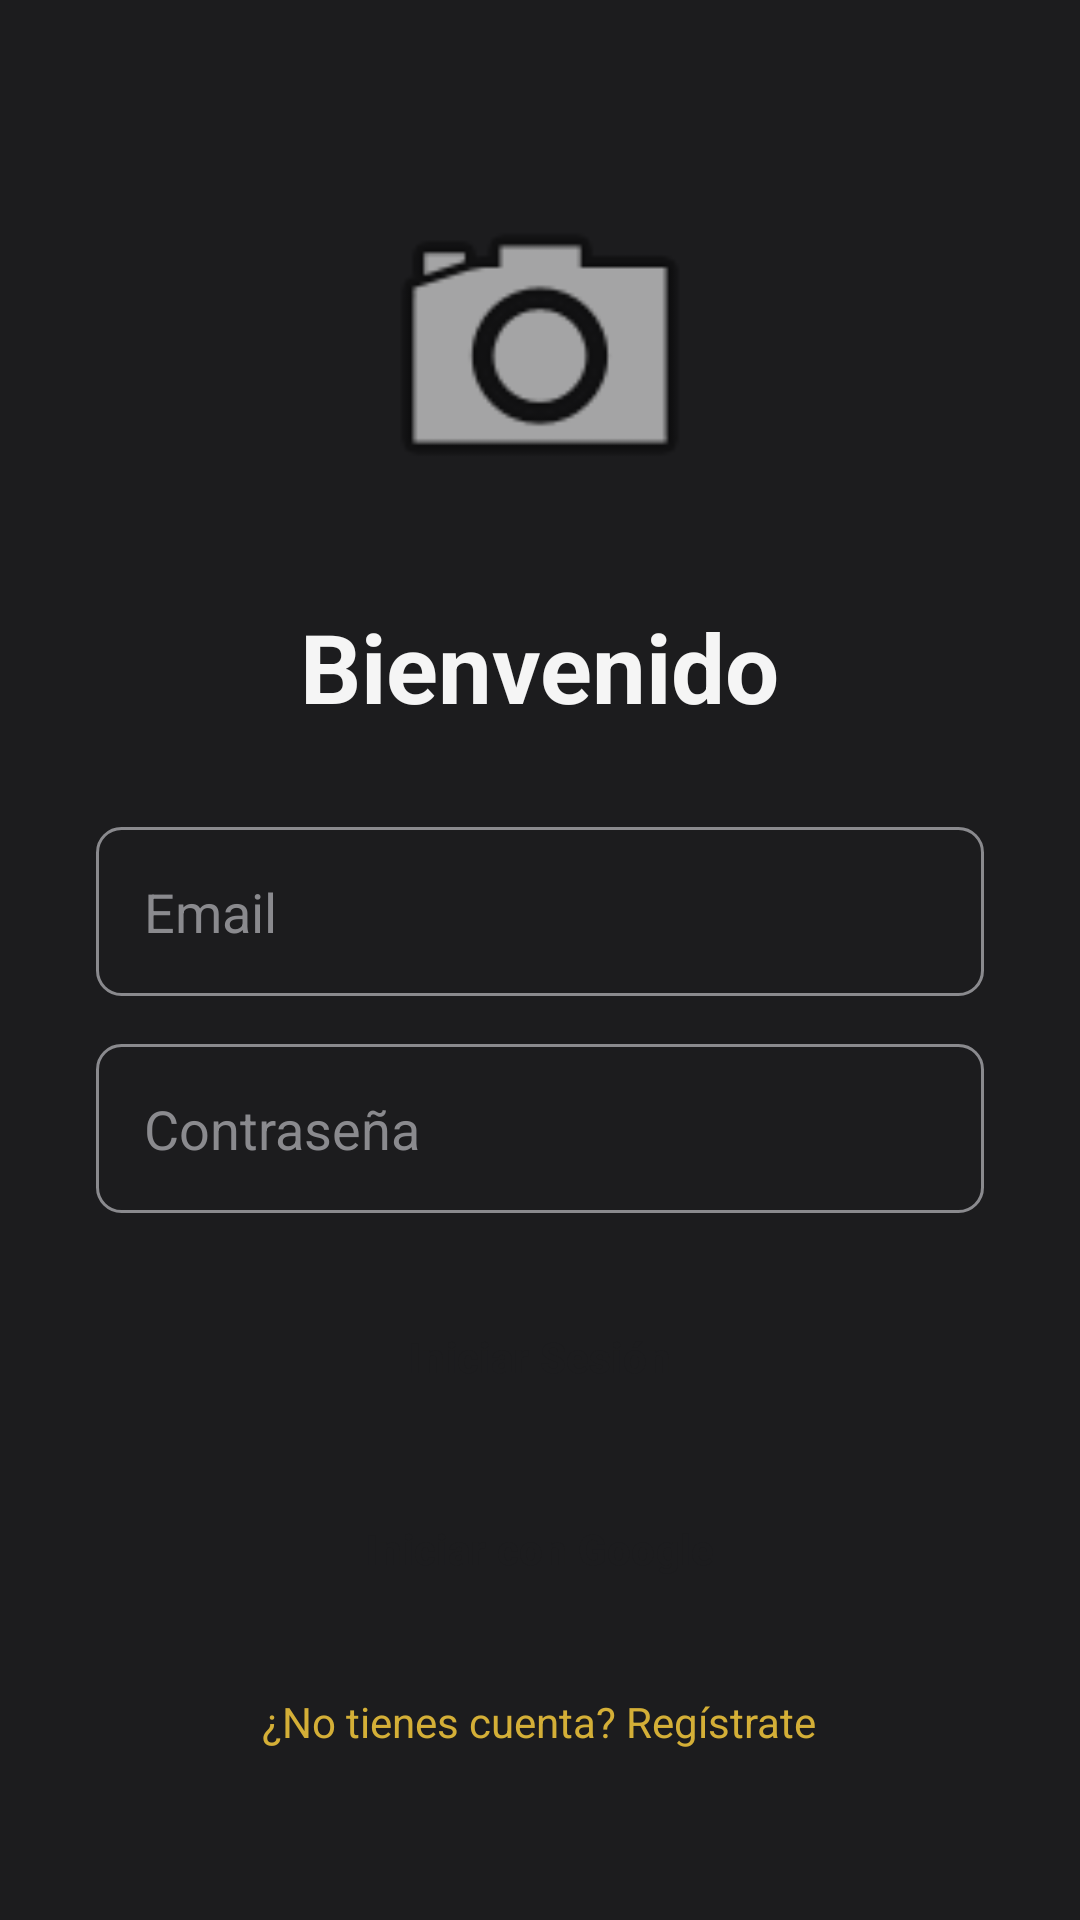

Icons on this 1080px×1920px Android screen, each with the point to tap as (x=x, y=y):
camera: (x=540, y=344)
